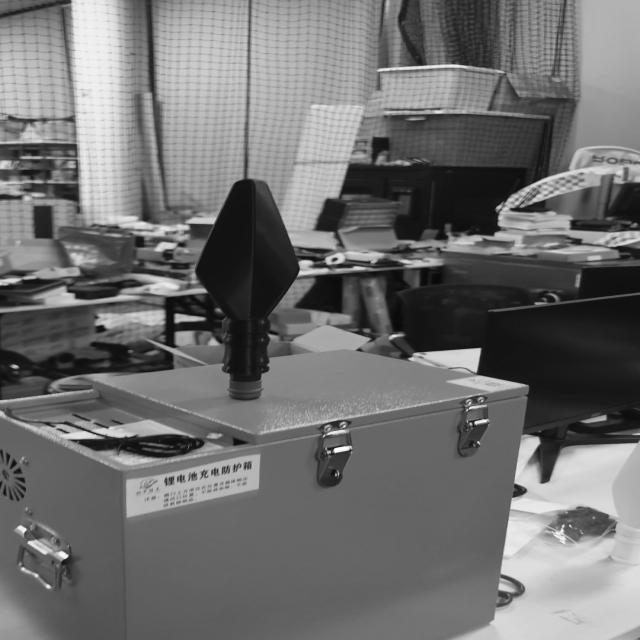base: (227, 379, 262, 400)
